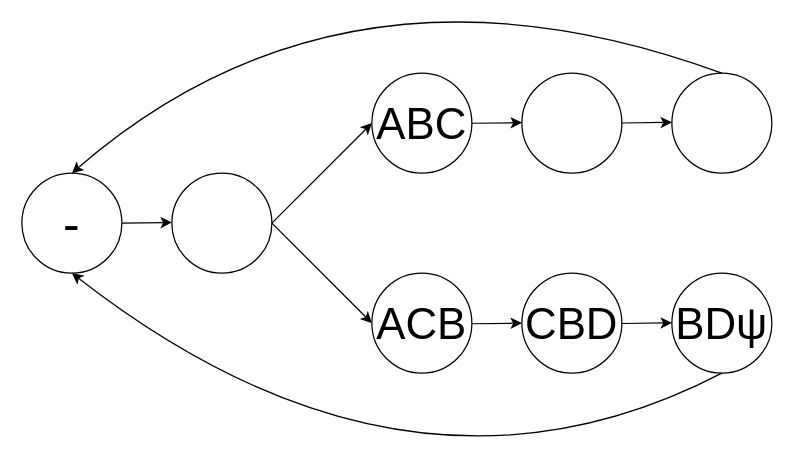
This 794x459 diagram has some shape labels left out. Here are the shapes that lost their labels. From the top down, the centre of each, then its label:
the point at 571,122: BCD
the point at 721,122: CDψ
the point at 221,222: φAB
